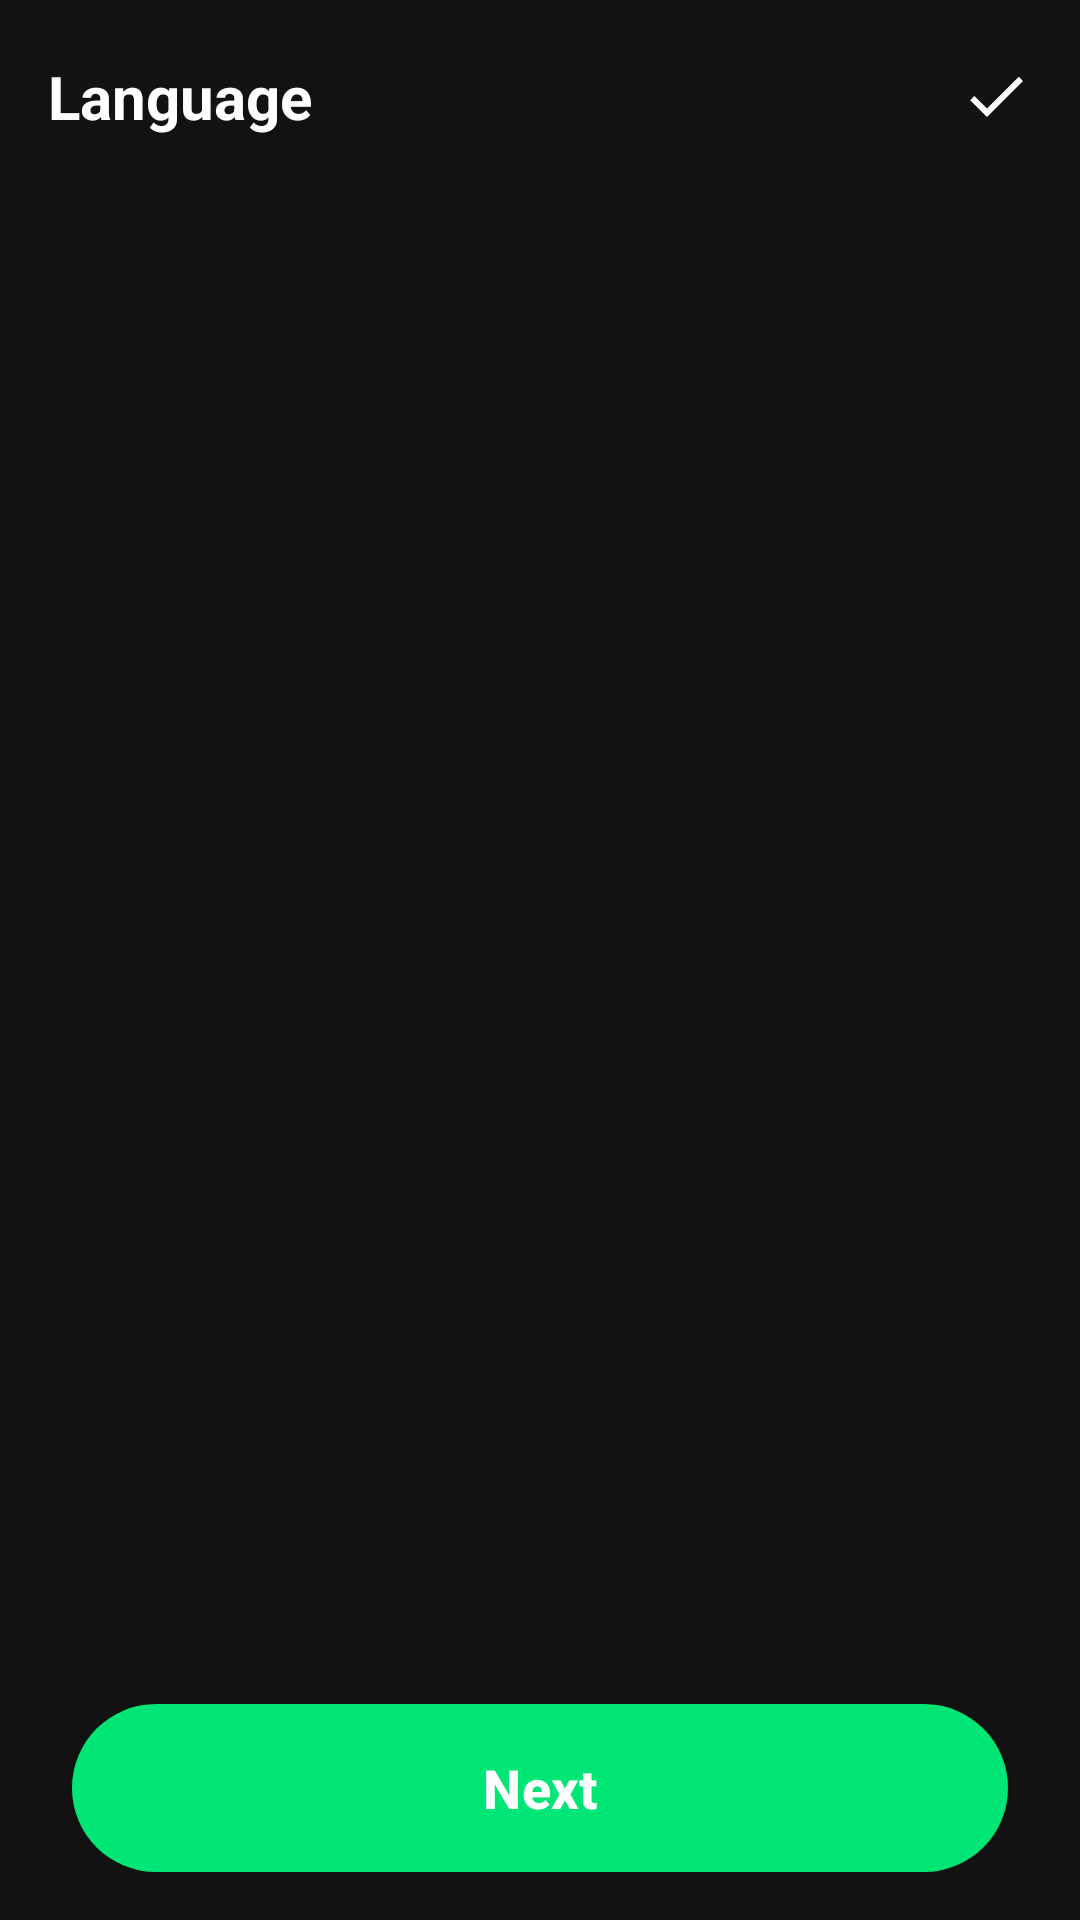

Screen size 1080px×1920px. Icon name, then its box in pixels as {"x1": x1, "y1": y1, "x2": x2, "y2": y2}:
check: {"x1": 970, "y1": 77, "x2": 1023, "y2": 117}
